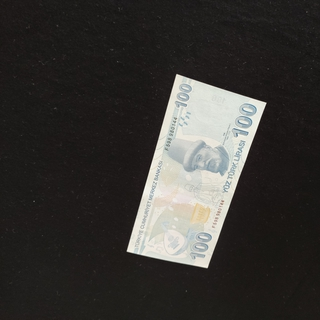100TLBack: (126, 73, 267, 268)
